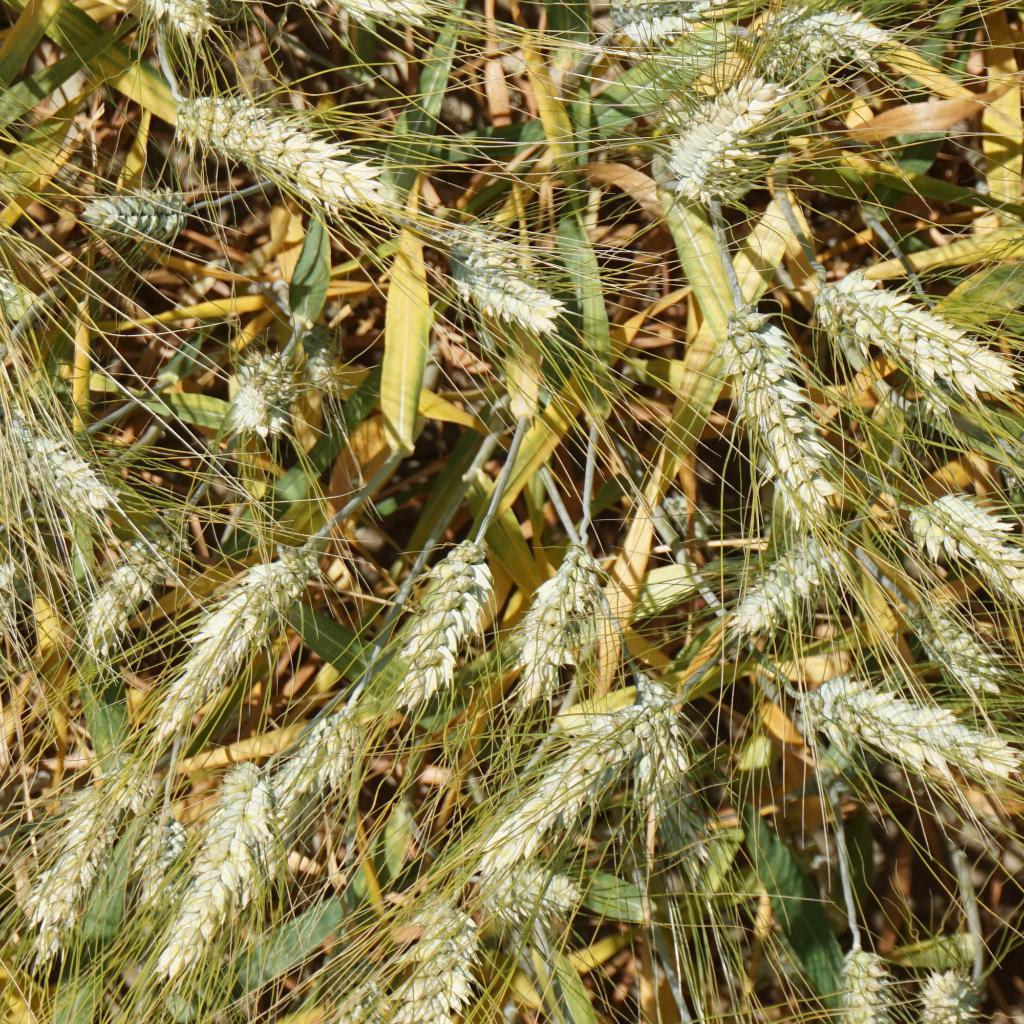0-0: (449, 695, 633, 889), (795, 681, 1024, 799), (714, 291, 833, 509), (151, 541, 299, 716), (177, 92, 390, 208), (384, 523, 512, 705), (19, 761, 128, 974), (830, 275, 1017, 397), (181, 760, 273, 978), (360, 888, 502, 1024), (907, 472, 1024, 637), (730, 0, 921, 88), (518, 533, 610, 705), (891, 577, 1008, 708), (710, 514, 842, 630), (665, 67, 779, 198), (439, 240, 561, 338), (76, 527, 163, 663), (901, 282, 978, 433), (273, 710, 388, 807), (13, 415, 110, 525), (620, 669, 698, 797), (466, 858, 590, 937), (212, 346, 305, 451), (401, 218, 534, 286), (597, 0, 741, 59), (228, 0, 433, 41), (830, 931, 904, 1024), (284, 308, 355, 396), (902, 949, 983, 1024), (130, 801, 186, 909), (90, 171, 177, 238), (989, 417, 1024, 513), (135, 0, 224, 23)
